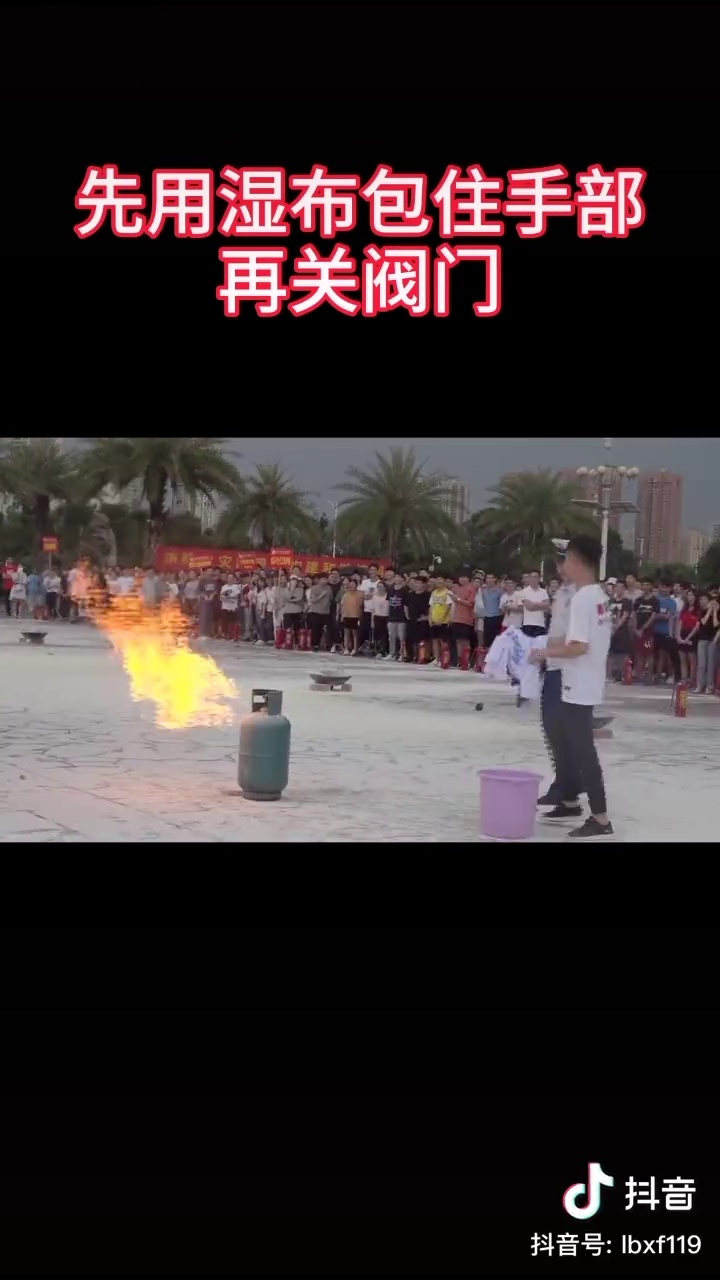fire: (74, 581, 233, 724)
